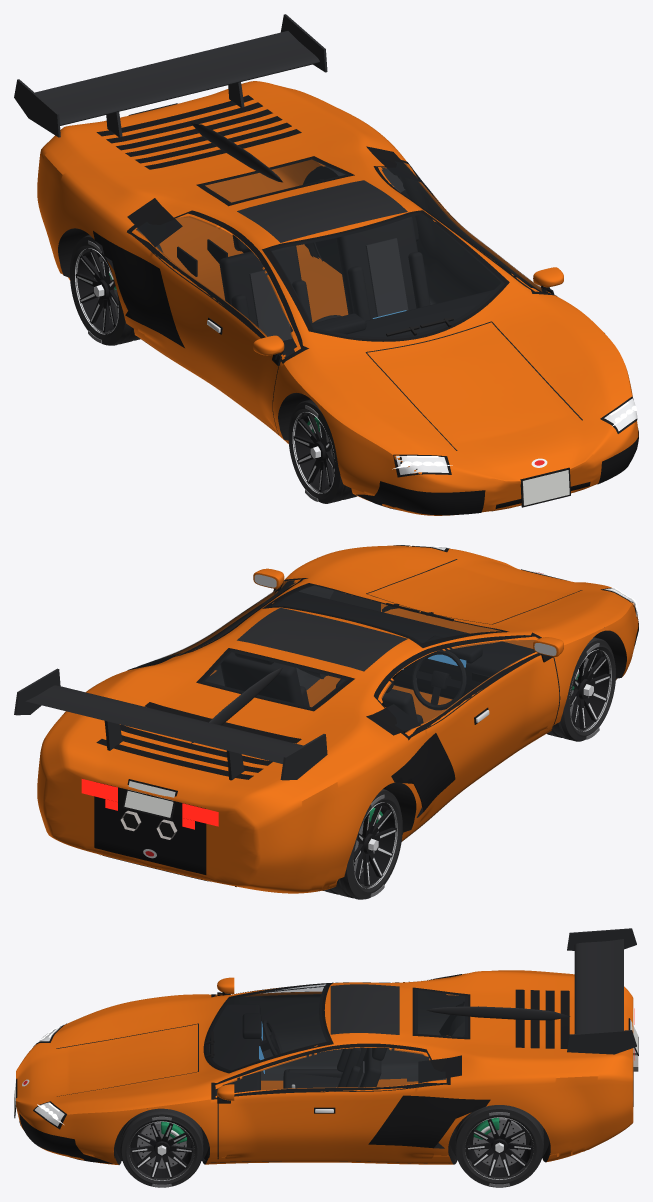
File: svj.glb
3 views of the same model, one above another, from view 1: azimuth 30°, elevation 25°; view 2: azimuth 150°, elevation 25°; view 3: azimuth 270°, elevation 25° (orthographic). The views are drawn at different scales.
Visible parts, largest first — view 1: Body, Wheel_RR, Wheel_FR; view 2: Body, Wheel_RR, Wheel_FR; view 3: Body, Wheel_RL, Wheel_FL.
Boxes of the visible parts, box(x1,y1,x2,y2) form: Body: box(14, 14, 638, 515); Wheel_RR: box(70, 235, 140, 345); Wheel_FR: box(288, 399, 357, 503); Body: box(14, 544, 638, 893); Wheel_RR: box(322, 789, 402, 899); Wheel_FR: box(547, 637, 615, 741); Body: box(14, 928, 638, 1164); Wheel_RL: box(455, 1105, 543, 1187); Wheel_FL: box(120, 1108, 203, 1187).
Bounding box in the file's own units: 2.21 × 1.38 × 5.
